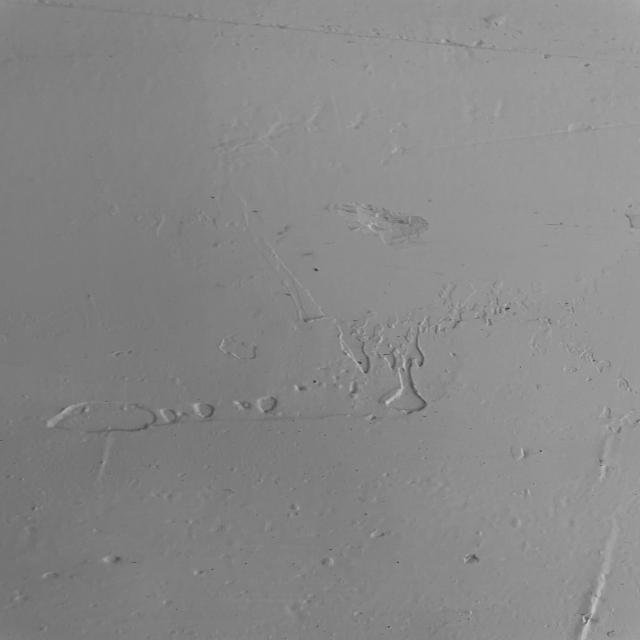rough and patchy surface: (22, 15, 632, 640)
